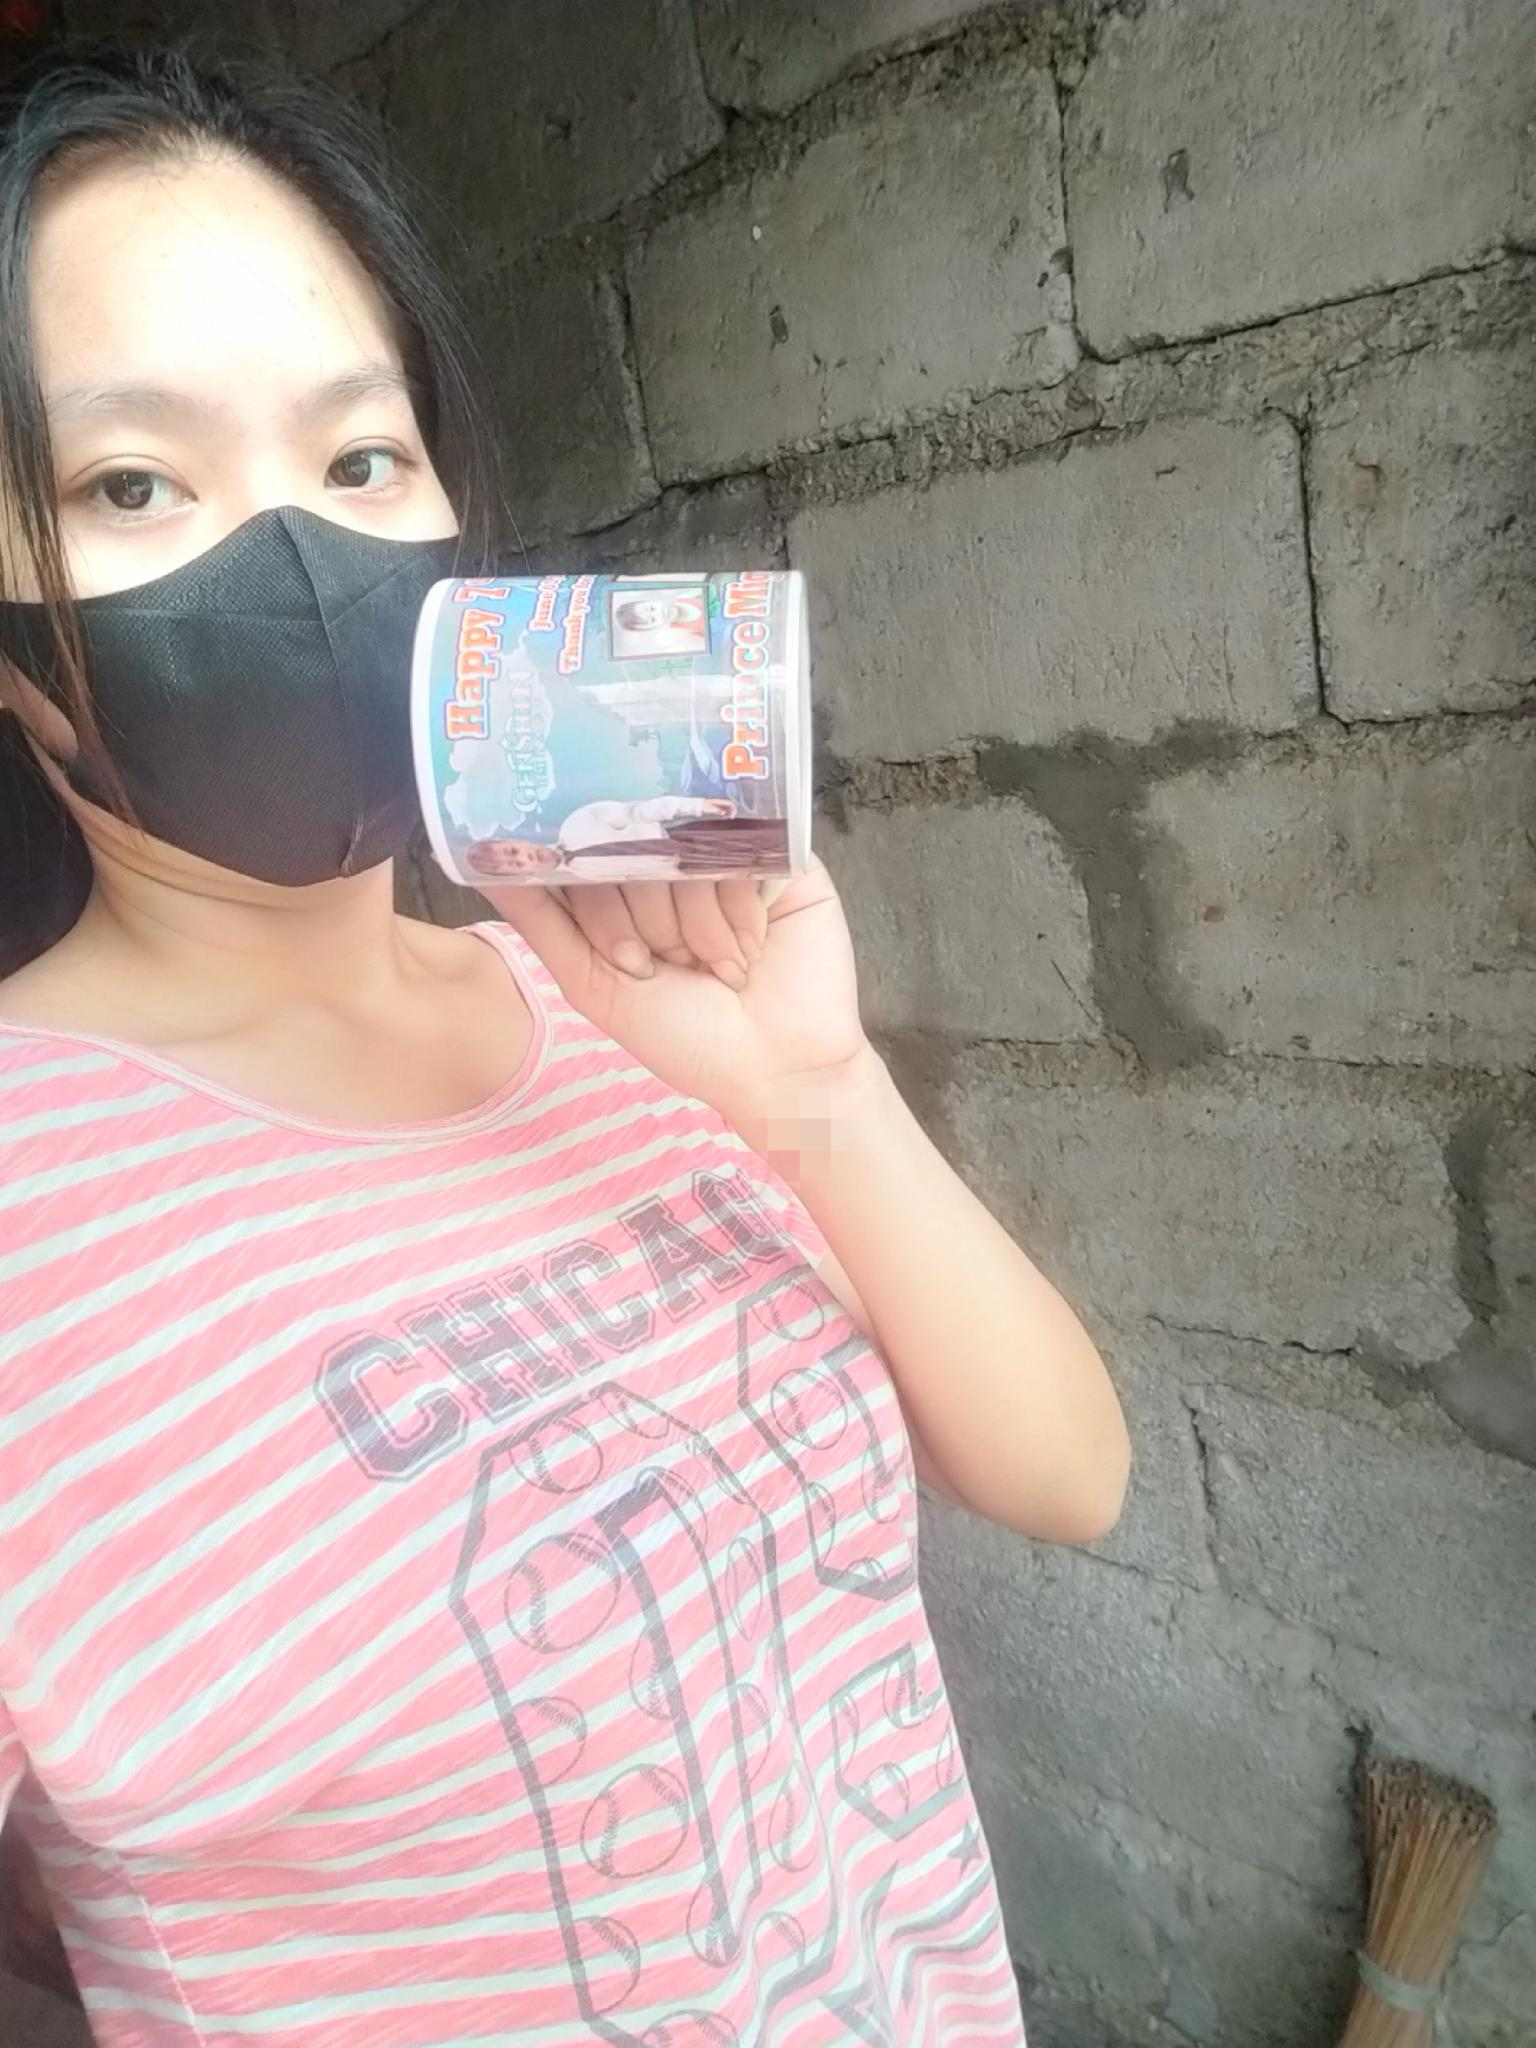Coffee Mug: (410, 572, 807, 884)
